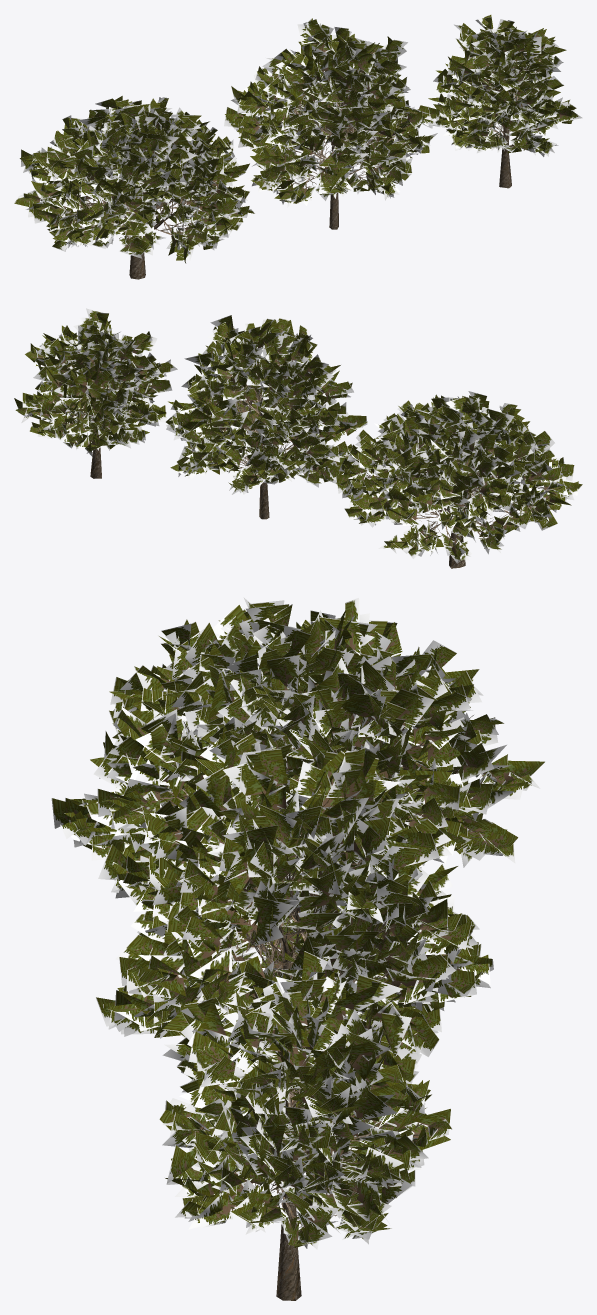
File: tree_hero.glb
3 views of the same model, one above another, from view 1: azimuth 30°, elevation 25°; view 2: azimuth 150°, elevation 25°; view 3: azimuth 270°, elevation 25° (orthographic). The views are drawn at different scales.
Visible parts, largest first — view 1: tree_hero; view 2: tree_hero; view 3: tree_hero.
Boxes of the visible parts, x1,y1,x2,y2 form: tree_hero: (14, 14, 582, 279); tree_hero: (14, 308, 582, 568); tree_hero: (51, 597, 545, 1300).
Size of the model in its own units: 26.55 by 9.21 by 10.75.
3 materials, 3 textured.
